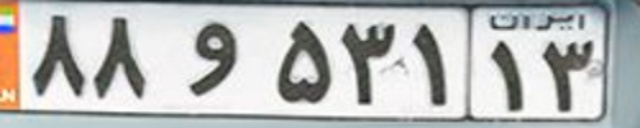1: (410, 23, 450, 106), (489, 39, 527, 110)
3: (339, 21, 397, 105), (541, 38, 594, 112)
5: (276, 21, 330, 102)
8: (33, 15, 86, 96), (93, 15, 144, 98)
vav: (188, 22, 237, 98)
